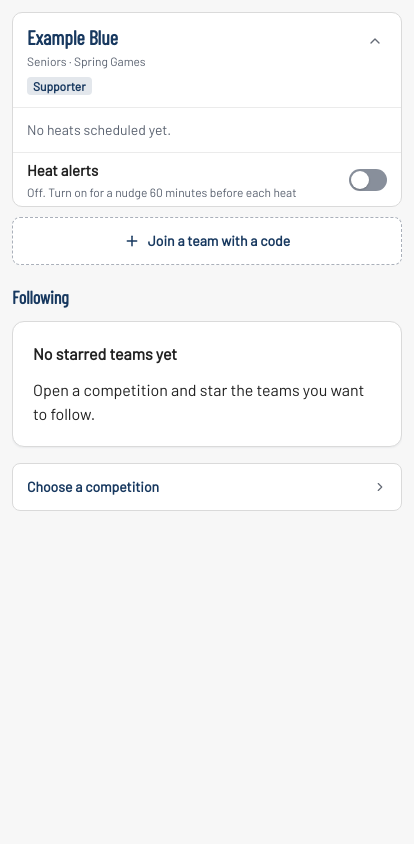
it: MyTeamsPage joining a team › opens the join box, joins, and reloads the teams
Click the button "Join a team with a code": (207, 241) [12,217,402,265]
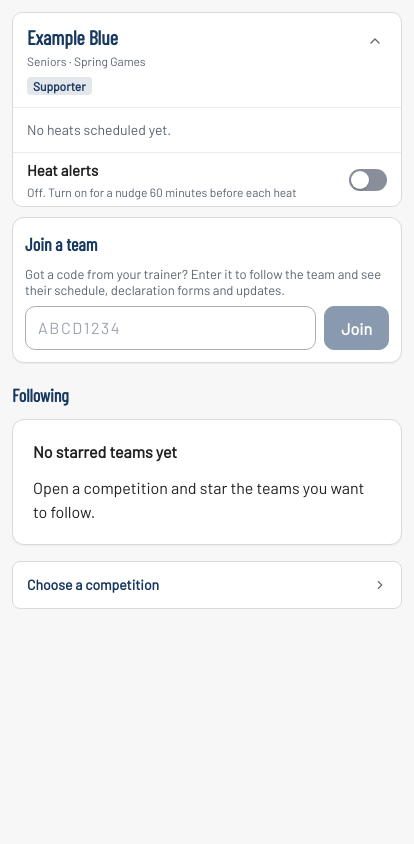
In the field named "Team join code": (171, 328) [25,306,316,350], type "abcd"
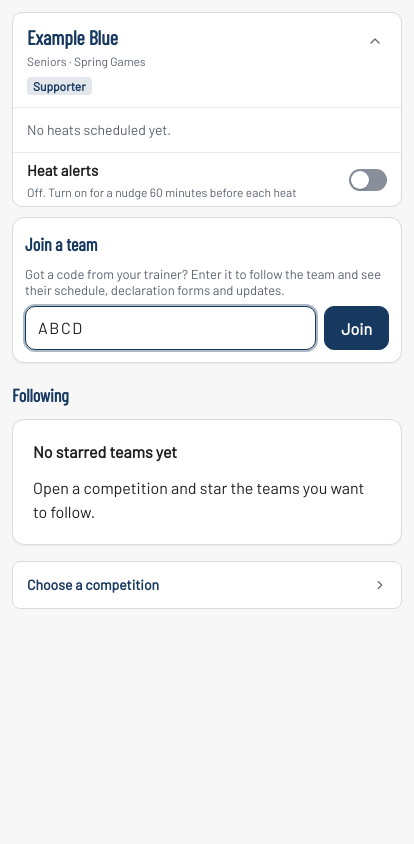
Click the button "Join": (357, 328) [324,306,389,350]
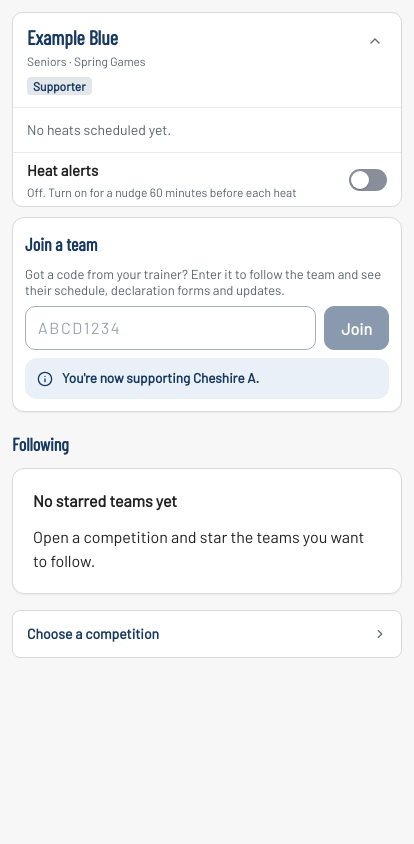
expect the message reads "You're now supporting Cheshire A.": met, box [62,369,259,386]
